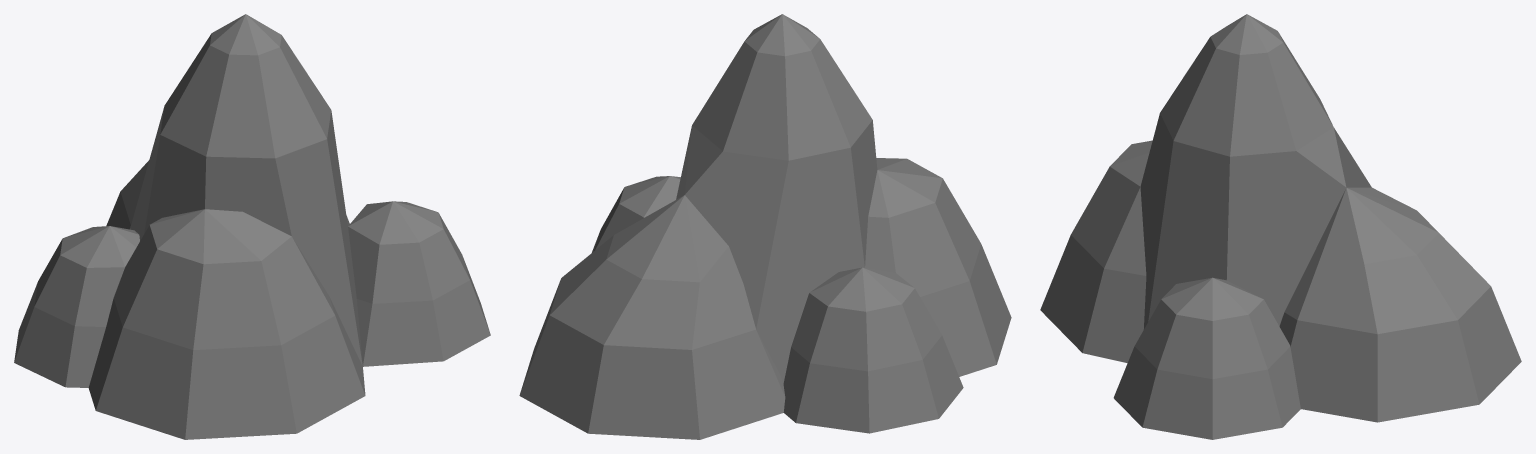
Rendered from bg_2_rocks.glb.
The picture shows the model from 3 angles, left to right: view 1: azimuth 30°, elevation 25°; view 2: azimuth 150°, elevation 25°; view 3: azimuth 270°, elevation 25°; orthographic projection. The views are drawn at different scales.
Visible parts, largest first — view 1: Plane.004; view 2: Plane.004; view 3: Plane.004.
Part boxes in pixels (x1,y1,x2,y2): Plane.004: (14, 14, 490, 439); Plane.004: (519, 14, 1011, 439); Plane.004: (1040, 14, 1521, 439).
Bounding box in the file's own units: 9.47 × 7.24 × 9.81.
Materials: 1 (1 with a texture image).
